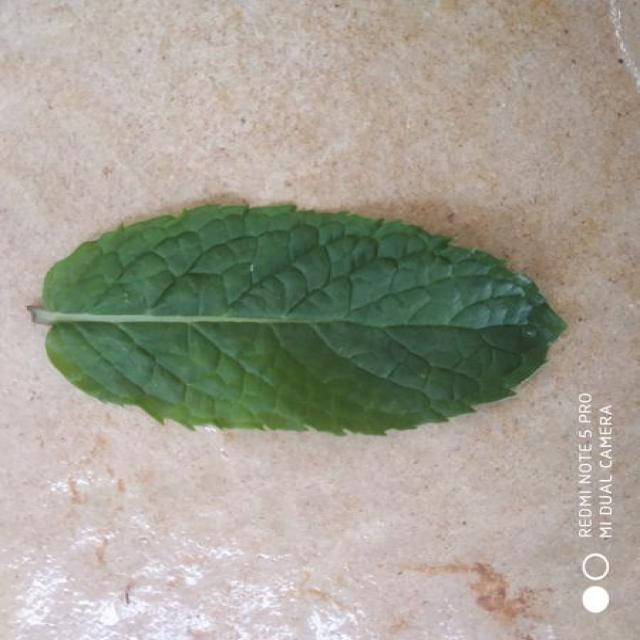mint: (30, 205, 565, 434)
